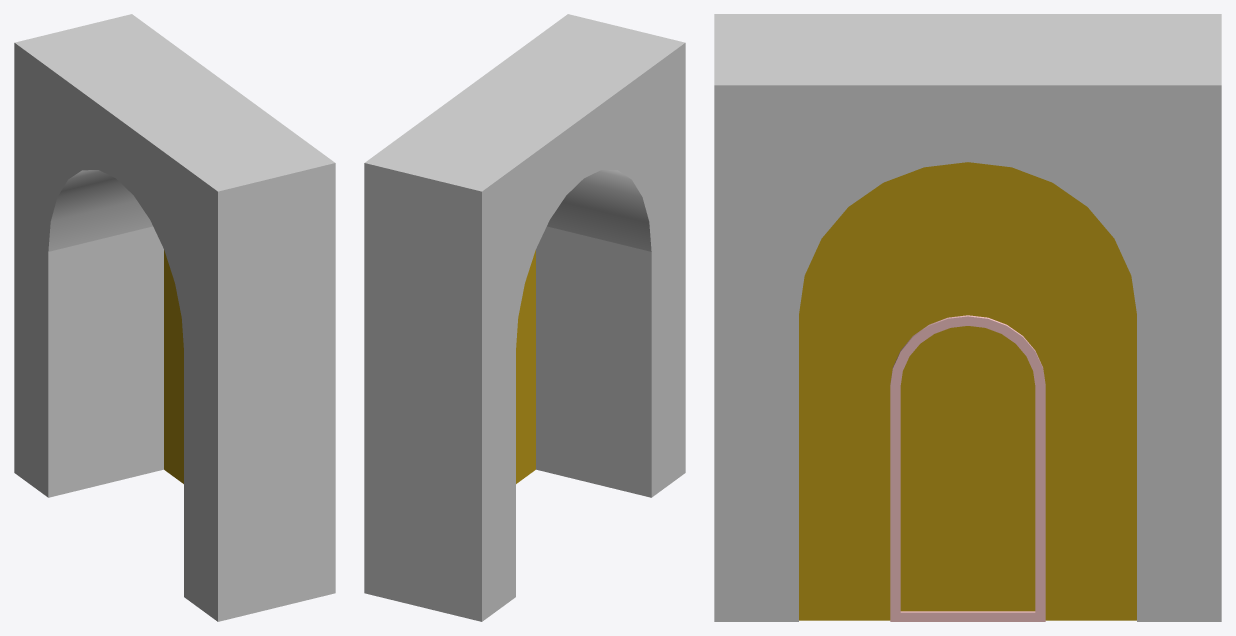
The model's file is Arch.fbx.
The picture shows the model from 3 angles, left to right: view 1: azimuth 30°, elevation 25°; view 2: azimuth 150°, elevation 25°; view 3: azimuth 270°, elevation 25°; orthographic projection. The views are drawn at different scales.
Parts seen in each view (by area): view 1: Group4, Group3, Group2, Group5; view 2: Group4, Group2, Group3, Group5; view 3: Group5, Group4, Group2, Group3.
Part boxes in pixels (<box>): Group4: <box>14,14,335,375</box>; Group3: <box>184,347,335,621</box>; Group2: <box>14,226,163,497</box>; Group5: <box>164,250,183,483</box>; Group4: <box>364,14,685,375</box>; Group2: <box>364,347,515,621</box>; Group3: <box>536,226,685,497</box>; Group5: <box>516,250,535,483</box>; Group5: <box>799,162,1136,621</box>; Group4: <box>714,14,1221,315</box>; Group2: <box>1137,315,1221,621</box>; Group3: <box>714,315,798,621</box>.
Bounding box in the file's own units: 30 × 105 × 90.
